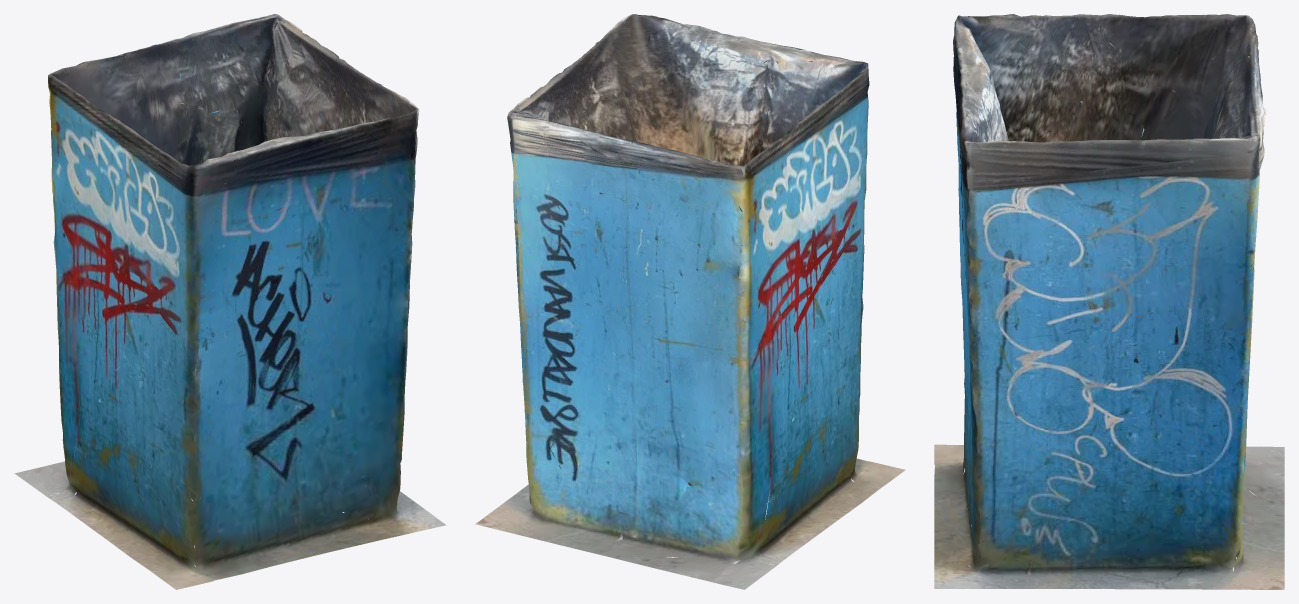
File: poubelle.glb
3 renders of one model, left to right at view 1: azimuth 30°, elevation 25°; view 2: azimuth 150°, elevation 25°; view 3: azimuth 270°, elevation 25°, orthographic. The views are drawn at different scales.
Parts seen in each view (by area): view 1: Object_2; view 2: Object_2; view 3: Object_2.
Boxes of the visible parts, <box> form: Object_2: <box>14,14,446,589</box>; Object_2: <box>475,14,905,589</box>; Object_2: <box>934,14,1284,589</box>.
Bounding box in the file's own units: 0.4456 × 0.6487 × 0.4621.
Materials: 1 (1 with a texture image).
